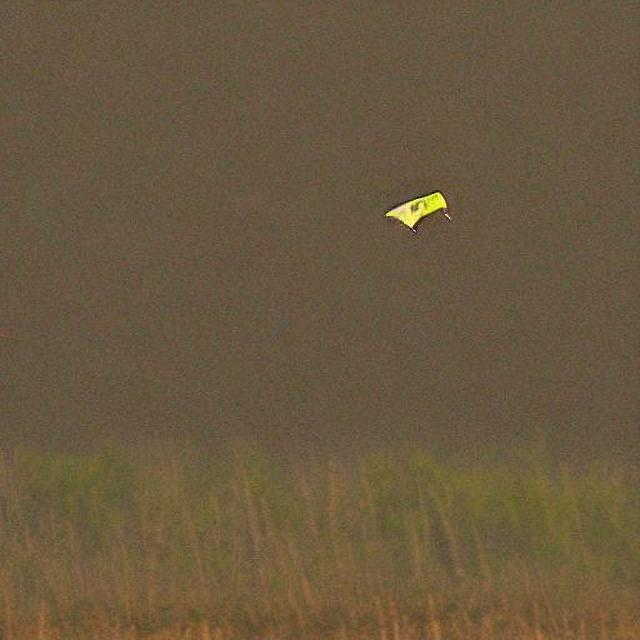floating object: (381, 189, 453, 236)
